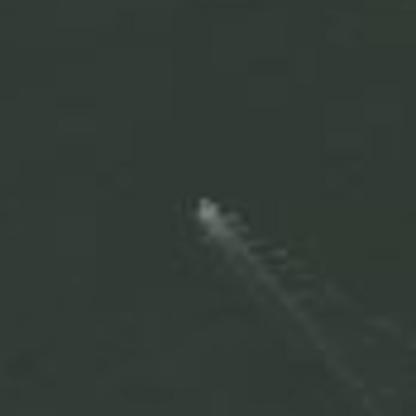ship: (192, 192, 223, 228)
